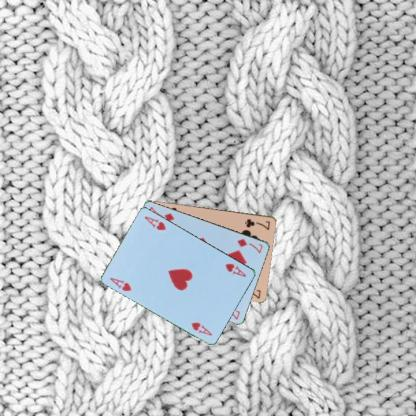7c: (242, 216, 272, 231)
7d: (235, 236, 264, 254)
Ah: (107, 274, 133, 292), (223, 260, 248, 278)
